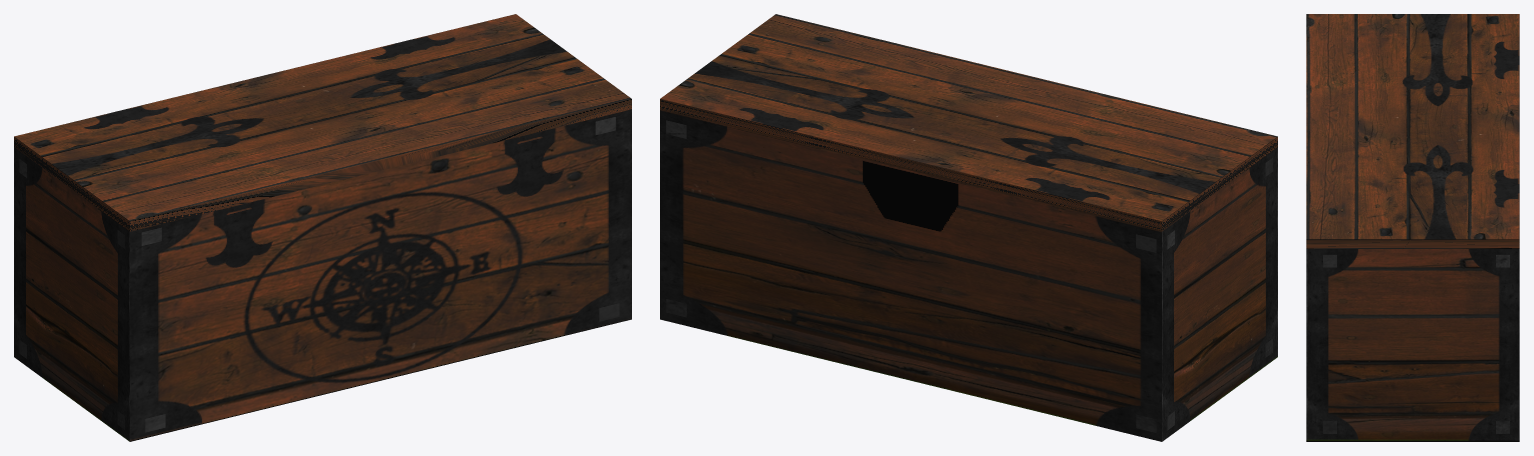
The model's file is DestroyableChest.fbx.
3 views of the same model, side by side, from view 1: azimuth 30°, elevation 25°; view 2: azimuth 150°, elevation 25°; view 3: azimuth 270°, elevation 25° (orthographic). The views are drawn at different scales.
Visible parts, largest first — view 1: polySurface7, polySurface10, polySurface14, polySurface11, polySurface2, polySurface5, polySurface4, polySurface3, polySurface1, polySurface8, polySurface12, polySurface9 (+1 smaller); view 2: polySurface9, polySurface16, polySurface15, polySurface2, polySurface5, polySurface3, polySurface8, polySurface4, polySurface11, polySurface18, polySurface1, polySurface7 (+2 smaller); view 3: polySurface10, polySurface2, polySurface16, polySurface5, polySurface4, polySurface3, polySurface1, polySurface13, polySurface12, polySurface18, polySurface6.
Part boxes in pixels (x1,y1,x2,y2): polySurface7: [46, 188, 315, 441]; polySurface10: [430, 141, 631, 364]; polySurface14: [310, 158, 444, 396]; polySurface11: [44, 169, 232, 355]; polySurface2: [378, 29, 631, 141]; polySurface5: [274, 47, 497, 170]; polySurface4: [212, 73, 382, 209]; polySurface3: [63, 80, 245, 215]; polySurface1: [14, 124, 200, 231]; polySurface8: [14, 147, 45, 304]; polySurface12: [500, 109, 631, 147]; polySurface9: [14, 285, 46, 380]; polySurface9: [977, 188, 1194, 441]; polySurface16: [660, 150, 879, 369]; polySurface15: [865, 163, 983, 396]; polySurface2: [718, 14, 910, 142]; polySurface5: [797, 47, 1024, 168]; polySurface3: [923, 116, 1205, 221]; polySurface8: [1048, 204, 1193, 369]; polySurface4: [902, 75, 1194, 173]; polySurface11: [1192, 147, 1277, 342]; polySurface18: [660, 198, 835, 362]; polySurface1: [1113, 119, 1277, 231]; polySurface7: [1194, 271, 1277, 417]; polySurface10: [1306, 284, 1418, 441]; polySurface2: [1306, 177, 1519, 248]; polySurface16: [1415, 289, 1519, 441]; polySurface5: [1306, 127, 1519, 178]; polySurface4: [1306, 51, 1519, 130]; polySurface3: [1306, 36, 1519, 117]; polySurface1: [1306, 14, 1519, 45]; polySurface13: [1418, 249, 1519, 293]; polySurface12: [1306, 249, 1419, 289]; polySurface18: [1444, 330, 1519, 441]; polySurface6: [1403, 211, 1519, 248].
Size of the model in its own units: 100 by 42 by 40.
Materials: 1 (1 with a texture image).
